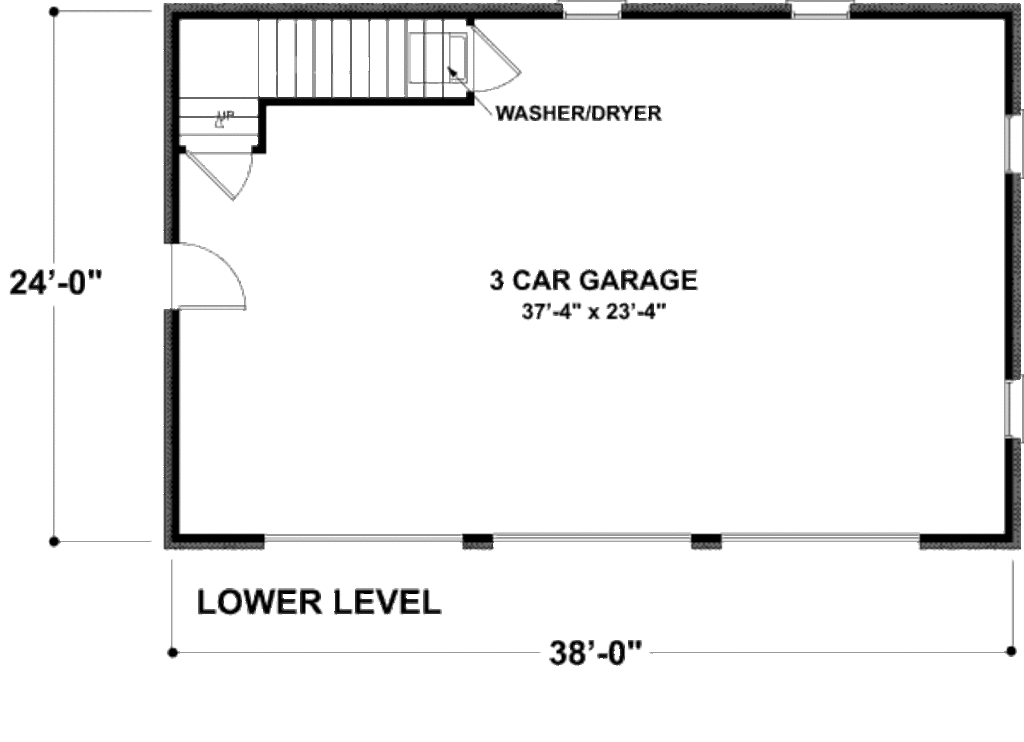door: (164, 243, 245, 309), (179, 151, 253, 203), (472, 28, 522, 96)
stairs: (181, 23, 472, 145)
window: (792, 1, 854, 21), (1003, 377, 1024, 434), (561, 3, 626, 21), (1008, 112, 1024, 173)
